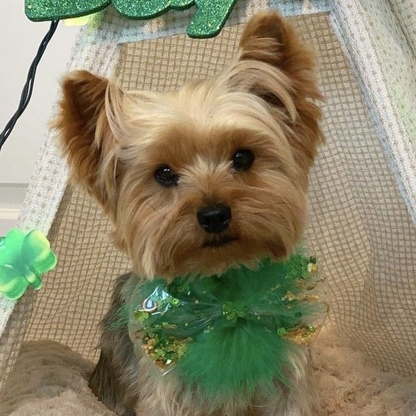yorkshire: (51, 7, 328, 276)
